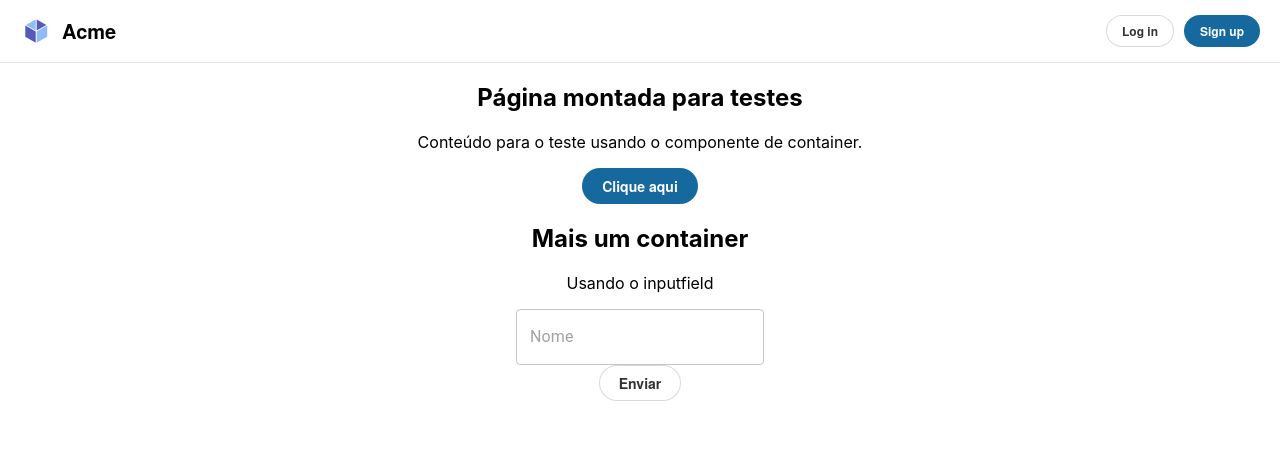
Renderiza botão quando clicado
The width and height of the screenshot is (1280, 454).
Expected: the text "Botão Clicado" is not shown
Click the button "Clique aqui": (640, 186) [582, 168, 698, 204]
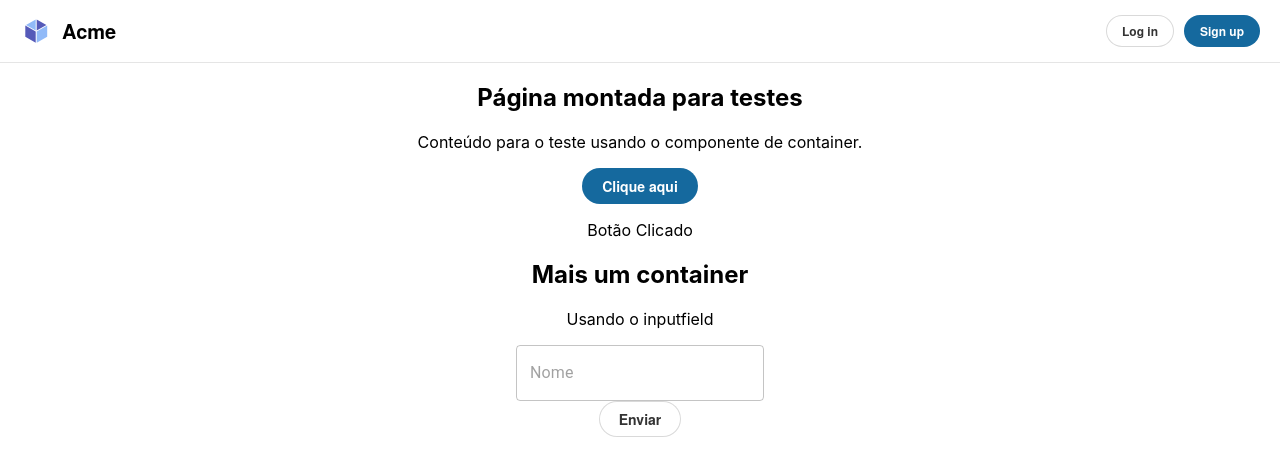
Expected: the text "Botão Clicado" is shown, [587, 220, 693, 240]
